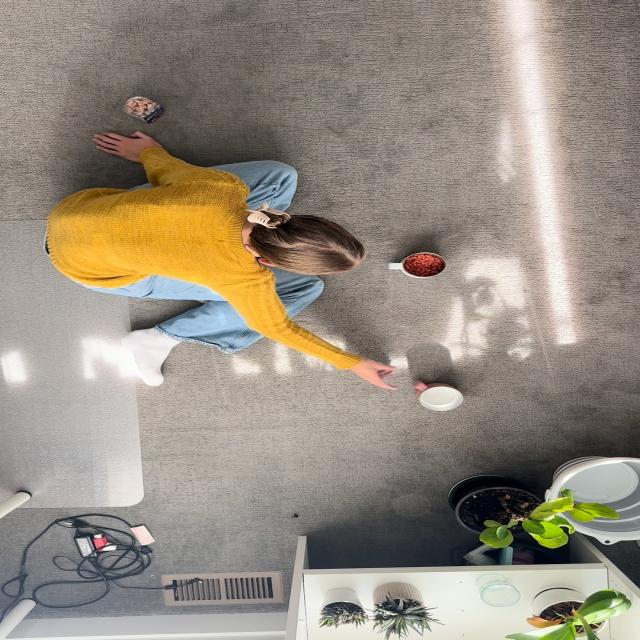IBC: (389, 252, 445, 278), (413, 382, 463, 411)
